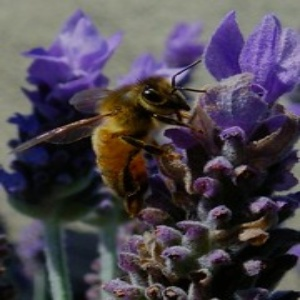bee: (7, 60, 212, 229)
